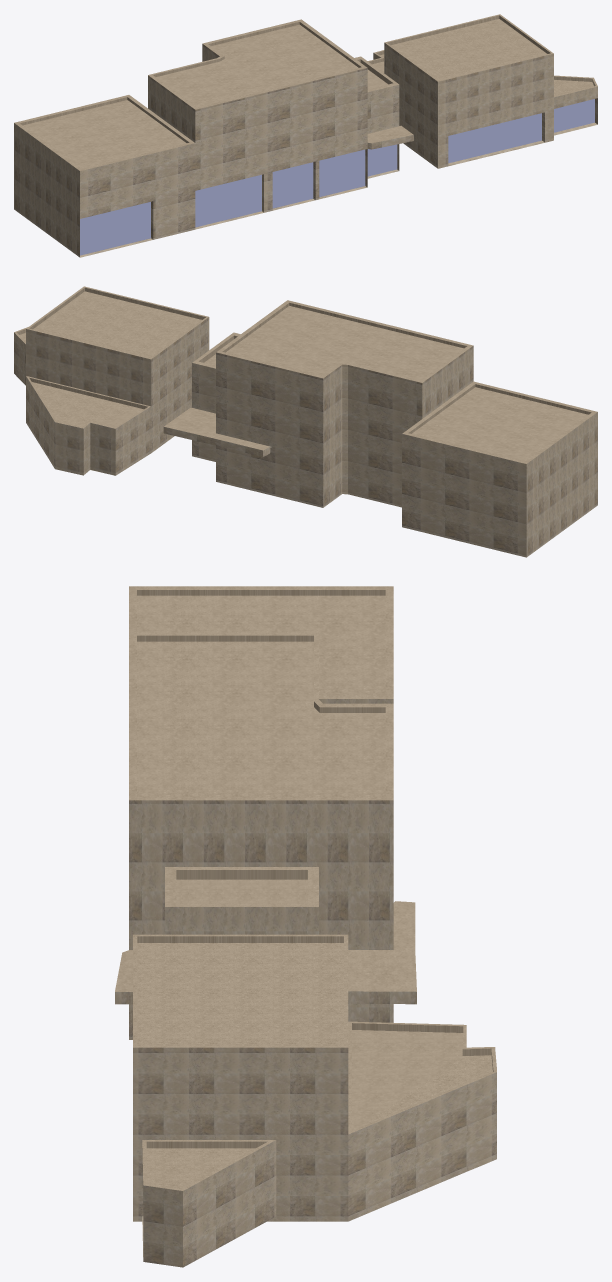
3 views of the same model, one above another, from view 1: azimuth 30°, elevation 25°; view 2: azimuth 150°, elevation 25°; view 3: azimuth 270°, elevation 25° (orthographic). The views are drawn at different scales.
Parts seen in each view (by area): view 1: Cube.007, Cube.008; view 2: Cube.007, Cube.008; view 3: Cube.007, Cube.008.
Part boxes in pixels (x1=…): Cube.007: x1=14, y1=19, x2=413, y2=257; Cube.008: x1=368, y1=14, x2=597, y2=168; Cube.007: x1=163, y1=300, x2=597, y2=557; Cube.008: x1=14, y1=286, x2=209, y2=475; Cube.007: x1=115, y1=586, x2=416, y2=1039; Cube.008: x1=133, y1=934, x2=496, y2=1267.
Size of the model in its own units: 70.68 by 15.36 by 22.19.
Materials: 3 (2 with a texture image).
